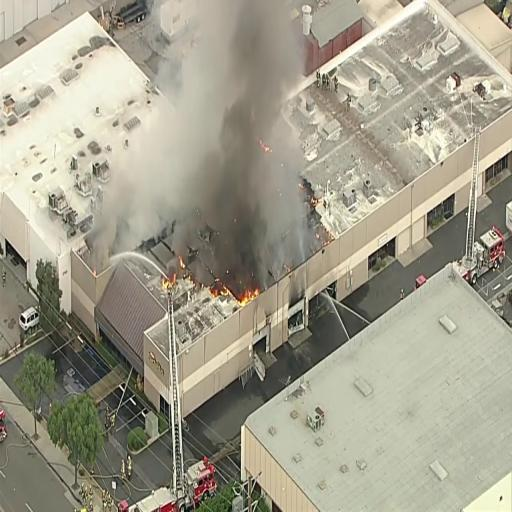smoke: (222, 4, 262, 259)
